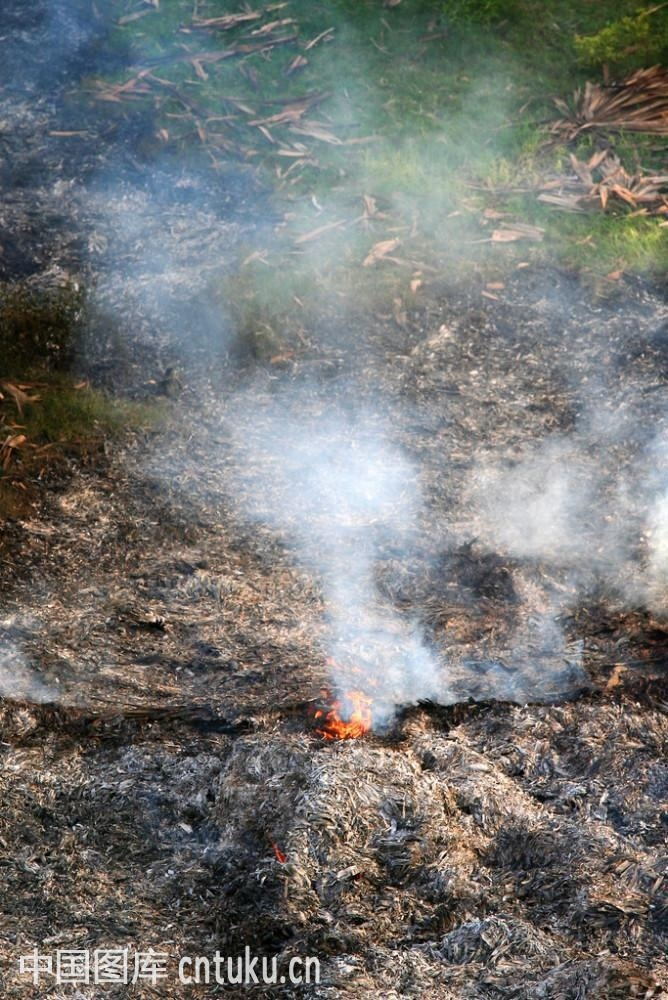fire: (311, 685, 372, 742)
